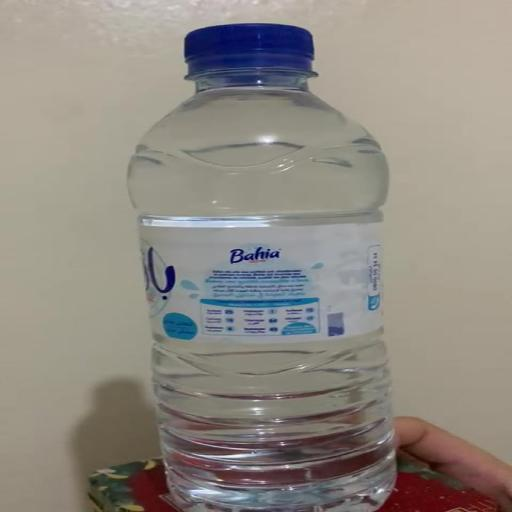bouteille conformite: (128, 23, 395, 511)
